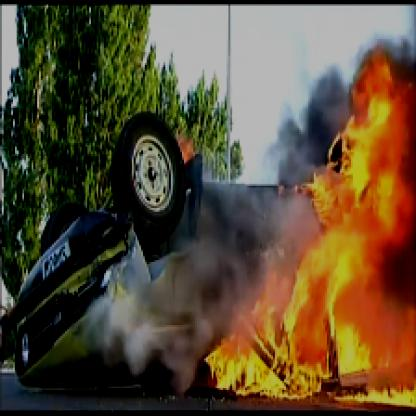Fire: (204, 57, 414, 405)
